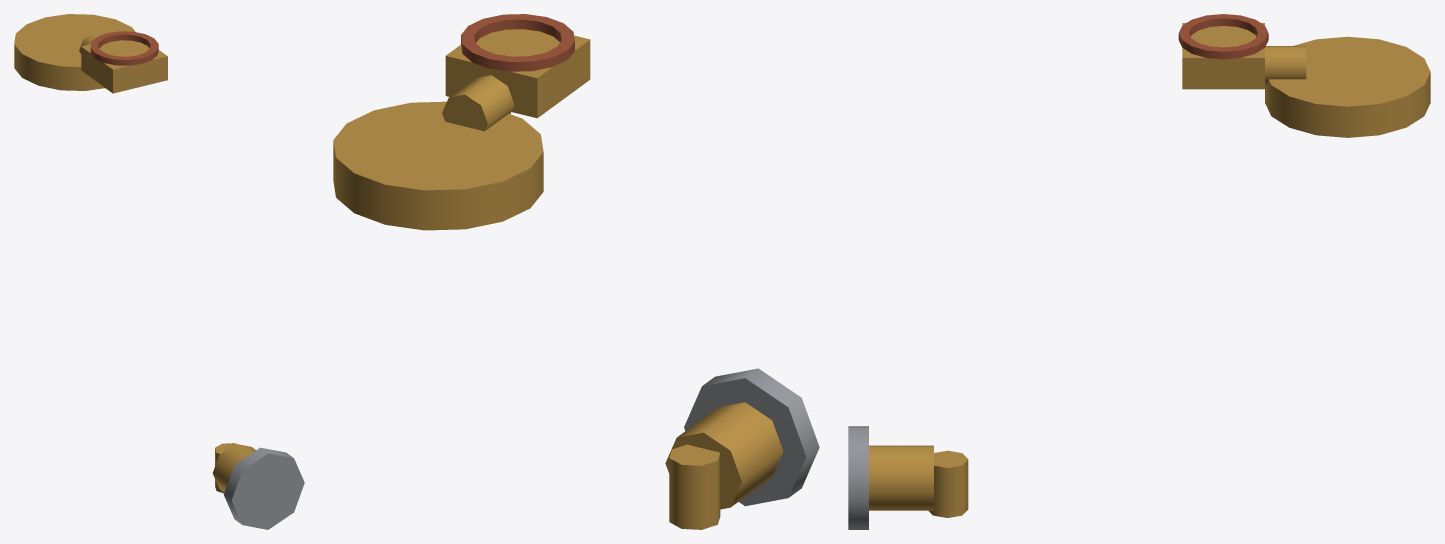
Rendered from jcharge_valve.obj.
3 views of the same model, side by side, from view 1: azimuth 30°, elevation 25°; view 2: azimuth 150°, elevation 25°; view 3: azimuth 270°, elevation 25° (orthographic). The views are drawn at different scales.
Visible parts, largest first — view 1: jcharge_valve; view 2: jcharge_valve; view 3: jcharge_valve.
Part boxes in pixels (<box>): jcharge_valve: <box>14,14,304,529</box>; jcharge_valve: <box>333,14,819,529</box>; jcharge_valve: <box>848,14,1430,529</box>.
Size of the model in its own units: 0.24 by 0.792 by 0.844.
